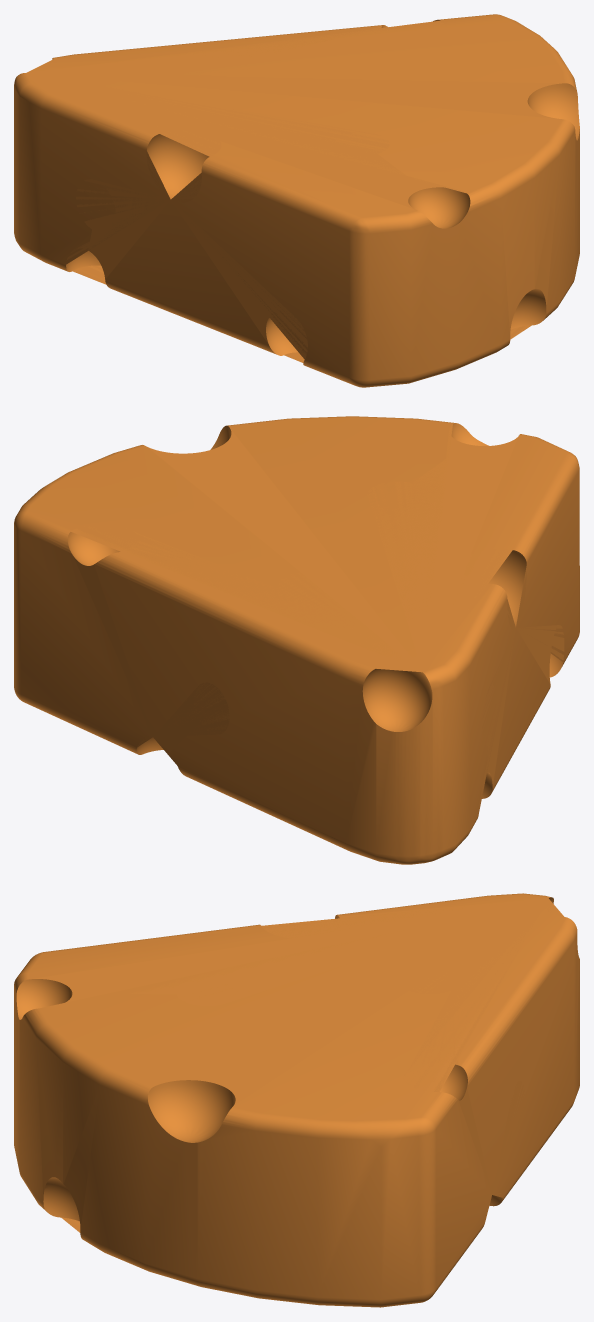
Rendered from cheese.fbx.
The picture shows the model from 3 angles, top to bottom: view 1: azimuth 30°, elevation 25°; view 2: azimuth 150°, elevation 25°; view 3: azimuth 270°, elevation 25°; orthographic projection. The views are drawn at different scales.
Visible parts, largest first — view 1: Cube.001; view 2: Cube.001; view 3: Cube.001.
Part boxes in pixels (x1,y1,x2,y2): Cube.001: (14, 14, 579, 387); Cube.001: (14, 416, 579, 864); Cube.001: (14, 893, 579, 1307).
Bounding box in the file's own units: 186 × 66.78 × 186.
